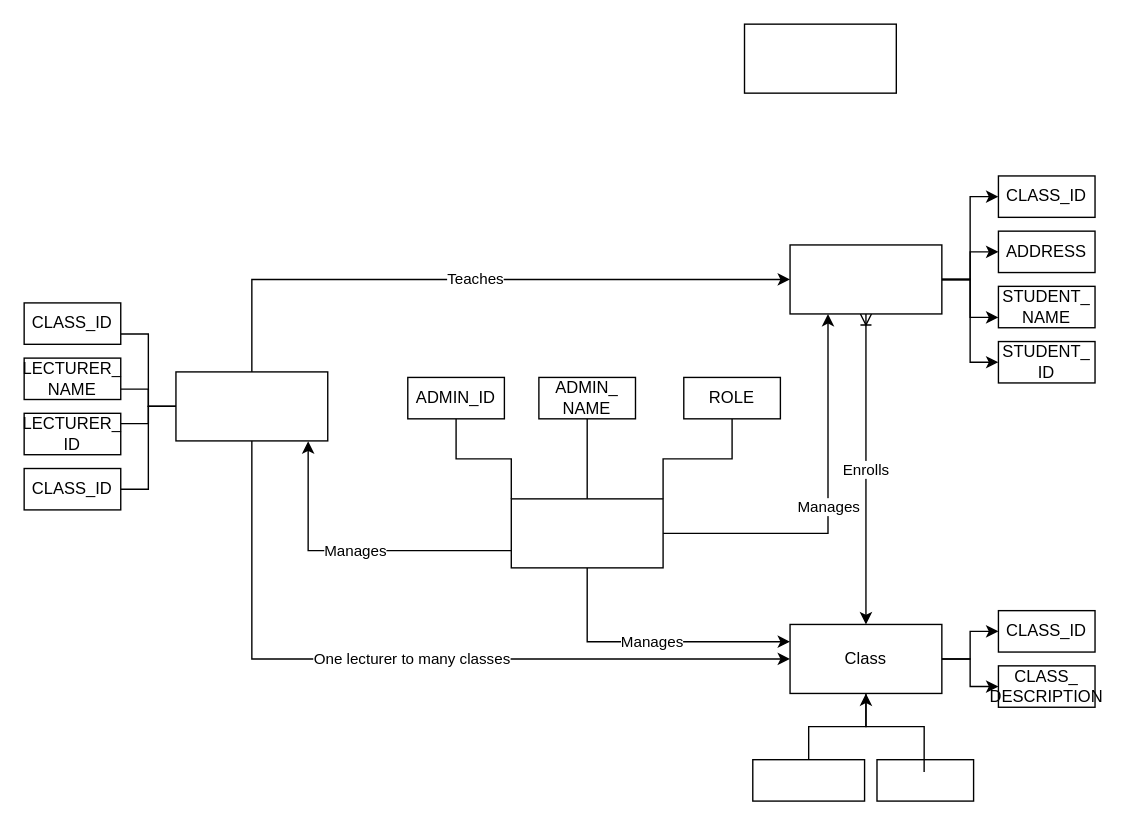
The diagram is 1127 pixels wide and 825 high, and some of its shapes have lost their labels. The centre of each missing label's shape, as x and y in pixels:
Admin: the point at 586,532
COURSE_ DESCRIPTION: the point at 925,779
Lecturer: the point at 251,406
Student: the point at 865,279
Student_Class??: the point at 819,58
SUBJECT: the point at 808,779
